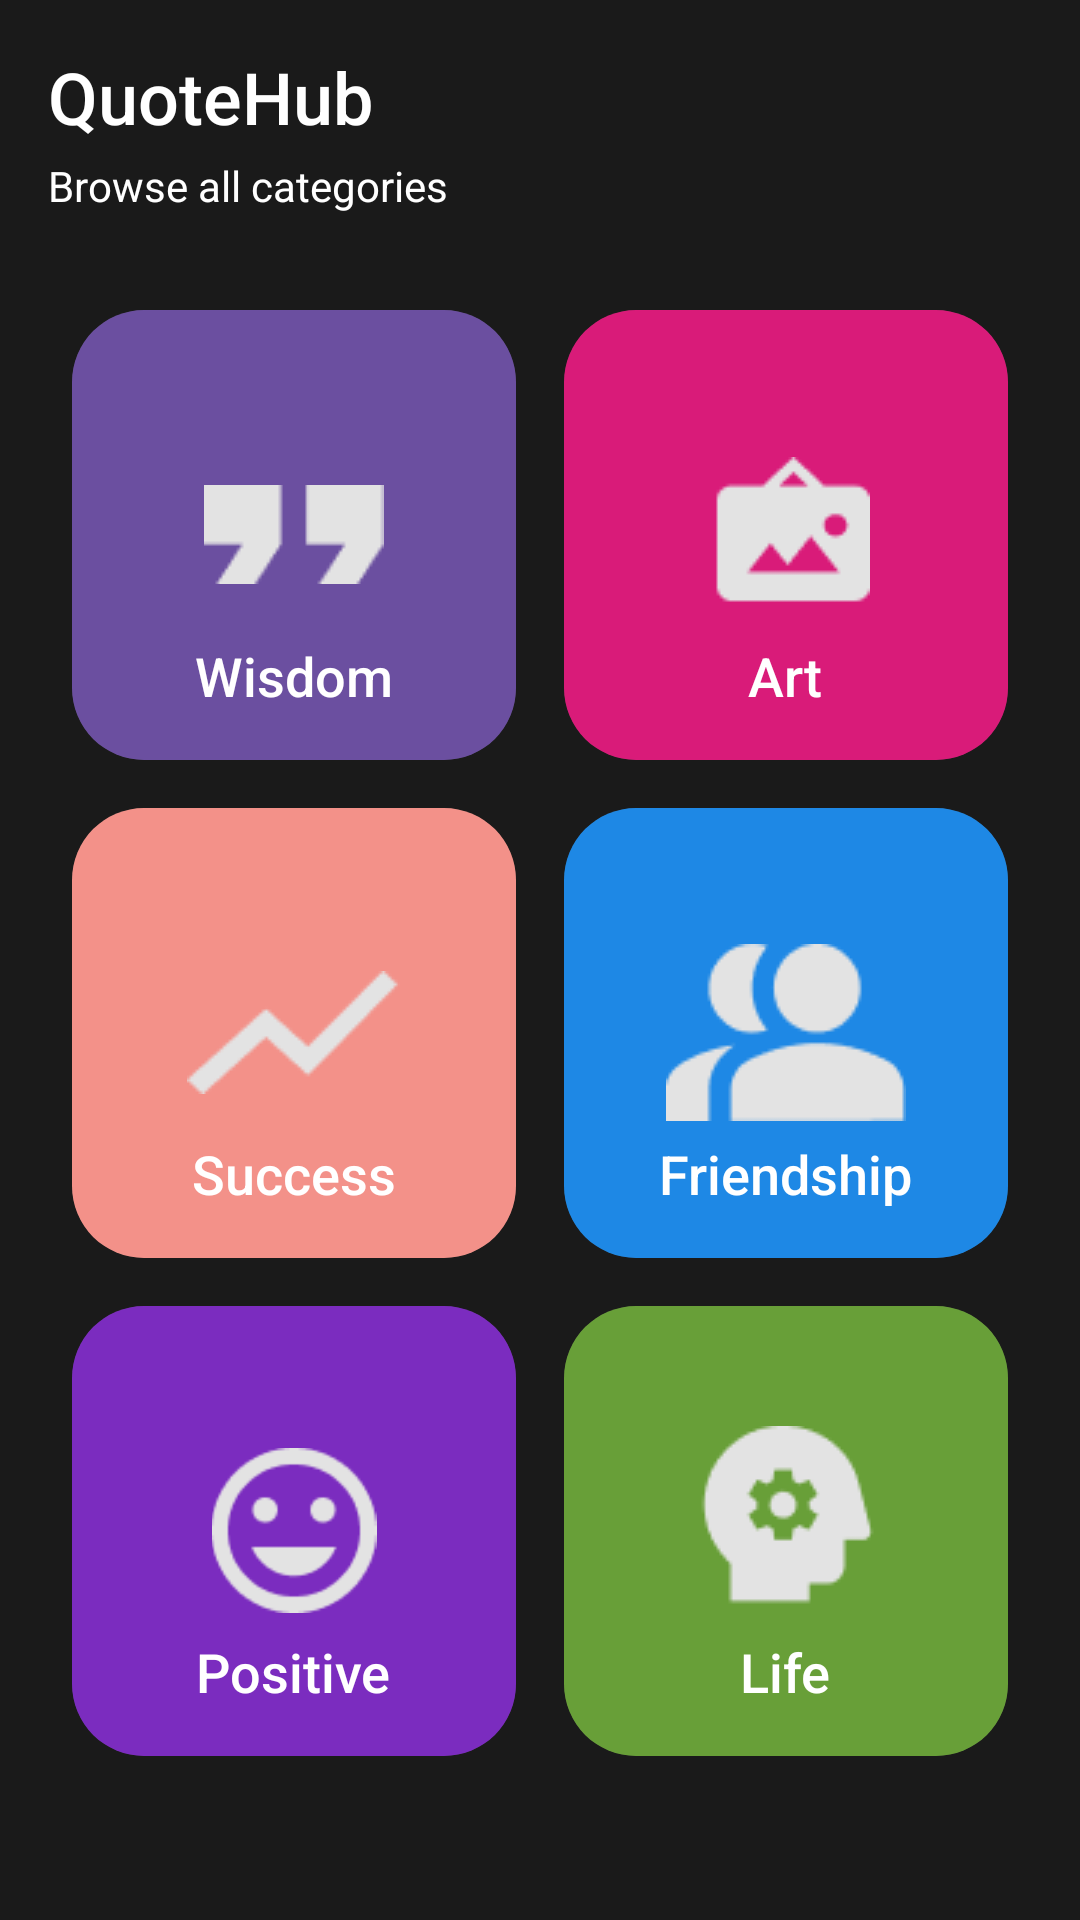

Named icons in this screenshot (1080px x 1920px) and their bounding boxes, (x1, y1, x2, y2):
quote: (204, 485, 384, 584)
